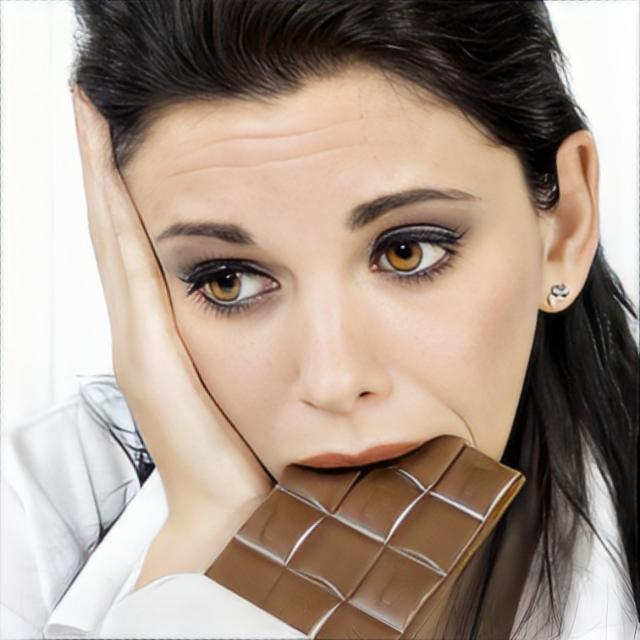sad: (153, 66, 540, 580)
